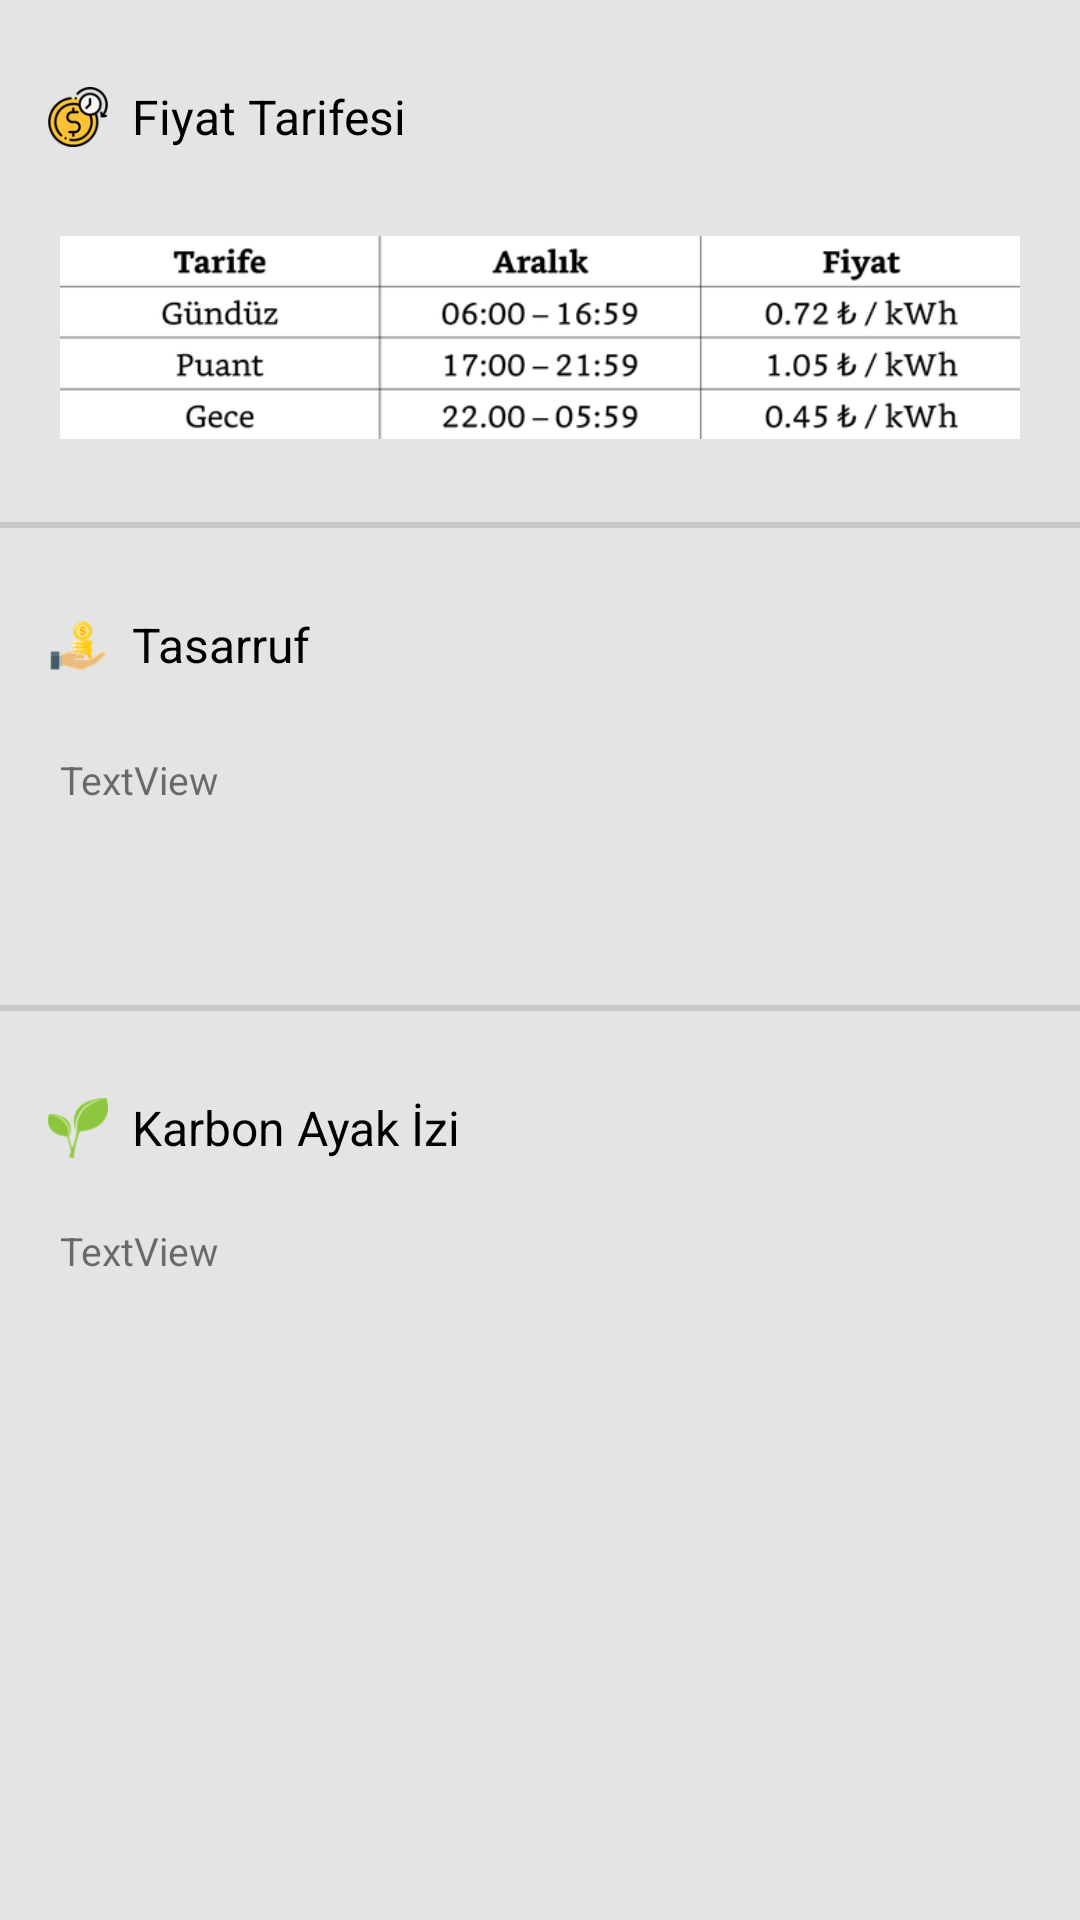

Locate icon controls on the screen. Image size 1080px×1920px, boxes as (x1, y1, x2, y2).
cost: (48, 87, 108, 147)
leaf: (48, 1098, 108, 1158)
saving: (50, 621, 106, 670)
